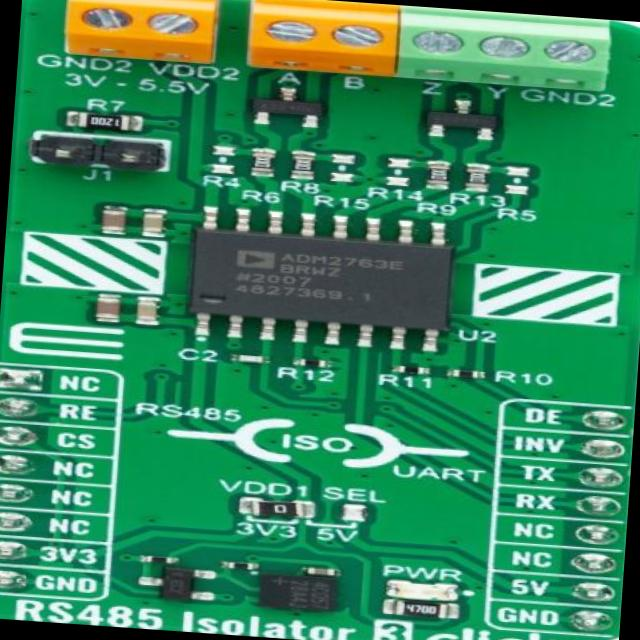IC: (187, 212, 456, 342), (258, 572, 336, 612)
LED: (393, 582, 450, 600)
capacitor: (102, 210, 125, 233), (96, 296, 120, 318), (142, 214, 162, 234), (136, 300, 156, 320), (306, 566, 334, 576), (236, 354, 263, 364)
connector: (397, 5, 623, 96), (246, 0, 396, 77), (62, 0, 221, 65), (34, 134, 170, 170)
resistor: (74, 111, 130, 132), (251, 499, 306, 517), (396, 600, 447, 618), (252, 152, 274, 172), (428, 164, 450, 183), (466, 168, 488, 186), (293, 156, 314, 174), (399, 364, 426, 374), (454, 369, 479, 379), (146, 556, 172, 564), (228, 562, 255, 569), (302, 359, 324, 367)
transistor: (251, 90, 323, 124), (427, 103, 497, 137), (152, 564, 206, 602)
